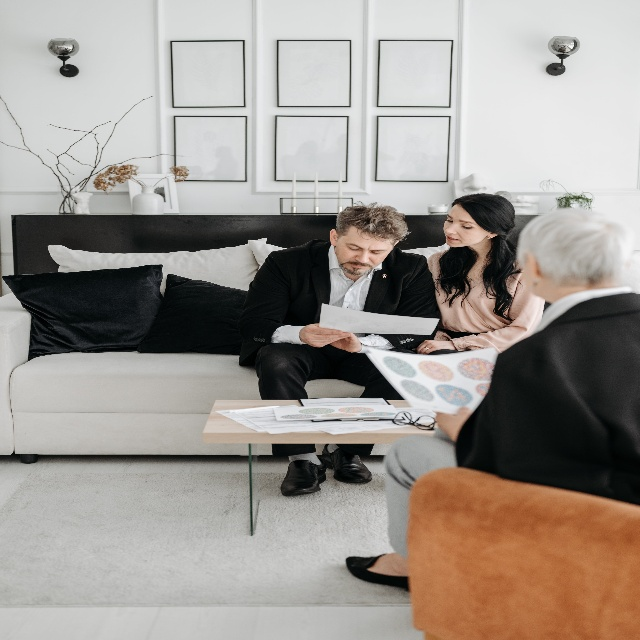Gafas: (392, 408, 435, 433)
Sin_guantes: (299, 324, 348, 353), (436, 408, 471, 443), (339, 328, 364, 360), (417, 333, 453, 354)
